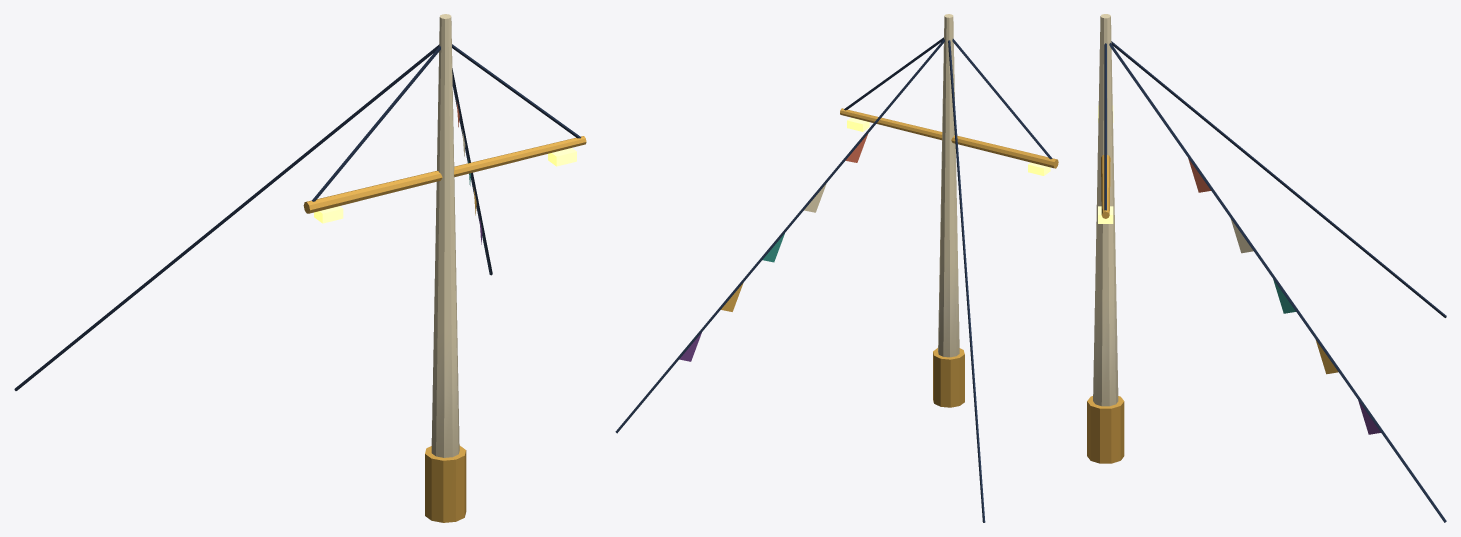
File: mast.glb
3 renders of one model, left to right at view 1: azimuth 30°, elevation 25°; view 2: azimuth 150°, elevation 25°; view 3: azimuth 270°, elevation 25°, orthographic. The views are drawn at different scales.
Visible parts, largest first — view 1: mast; view 2: mast; view 3: mast.
Boxes of the visible parts, x1,y1,x2,y2 form: mast: (14, 14, 586, 522); mast: (615, 14, 1058, 522); mast: (1087, 14, 1446, 522).
Bounding box in the file's own units: 12.06 × 12 × 8.89.
